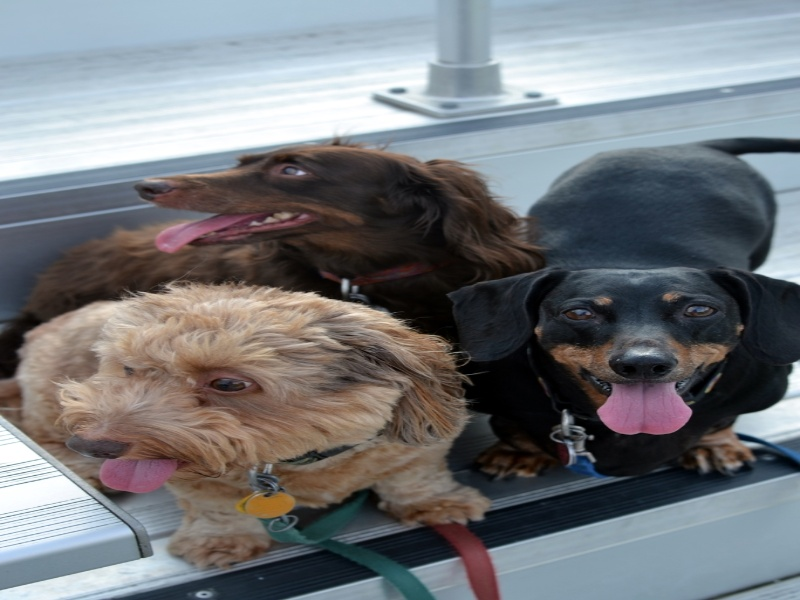dog: (20, 286, 489, 557), (471, 138, 800, 482), (26, 144, 520, 308)
